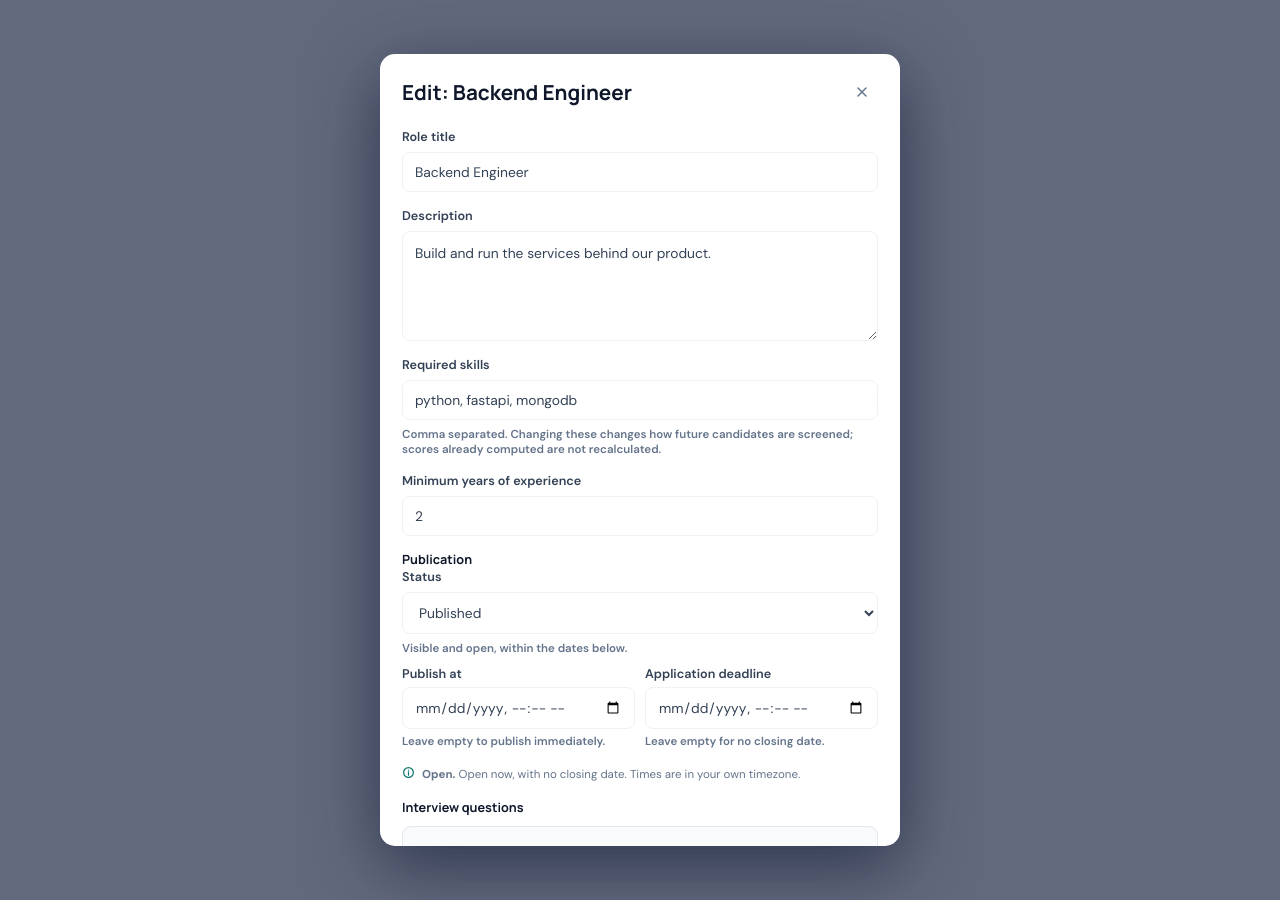
Test: editing a role › refuses to save an impossible window
expect the field labelled "Role title" is shown: met, box left=402, top=152, right=878, bottom=192
Type "2099-02-01T09:00" into the field labelled "Publish at Leave empty to publish immediately.". click: (518, 708)
box: left=402, top=687, right=635, bottom=729
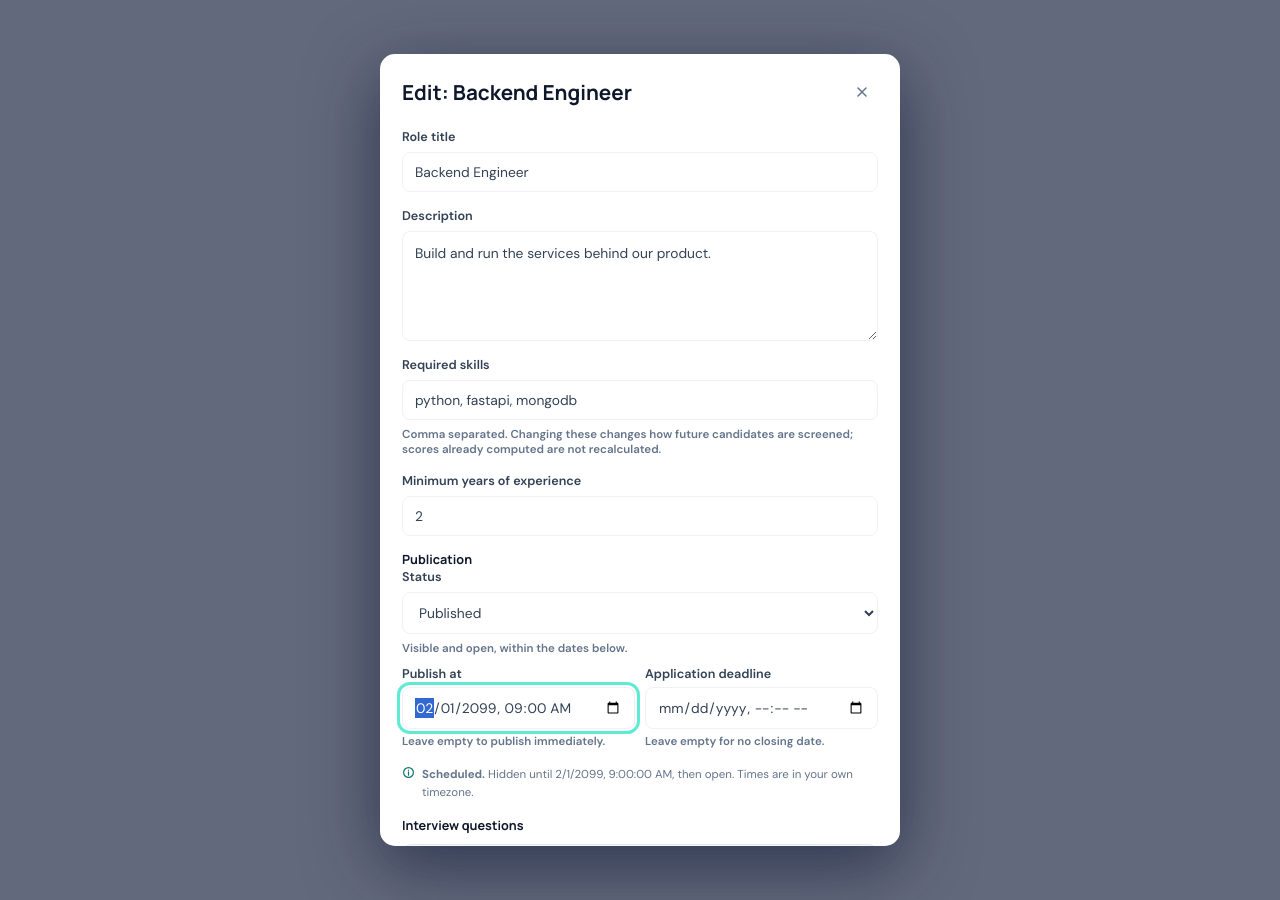
Type "2099-01-01T09:00" into the field labelled "Application deadline Leave empty for no closing date.". click: (762, 708)
box: left=645, top=687, right=878, bottom=729
(page scrolled)
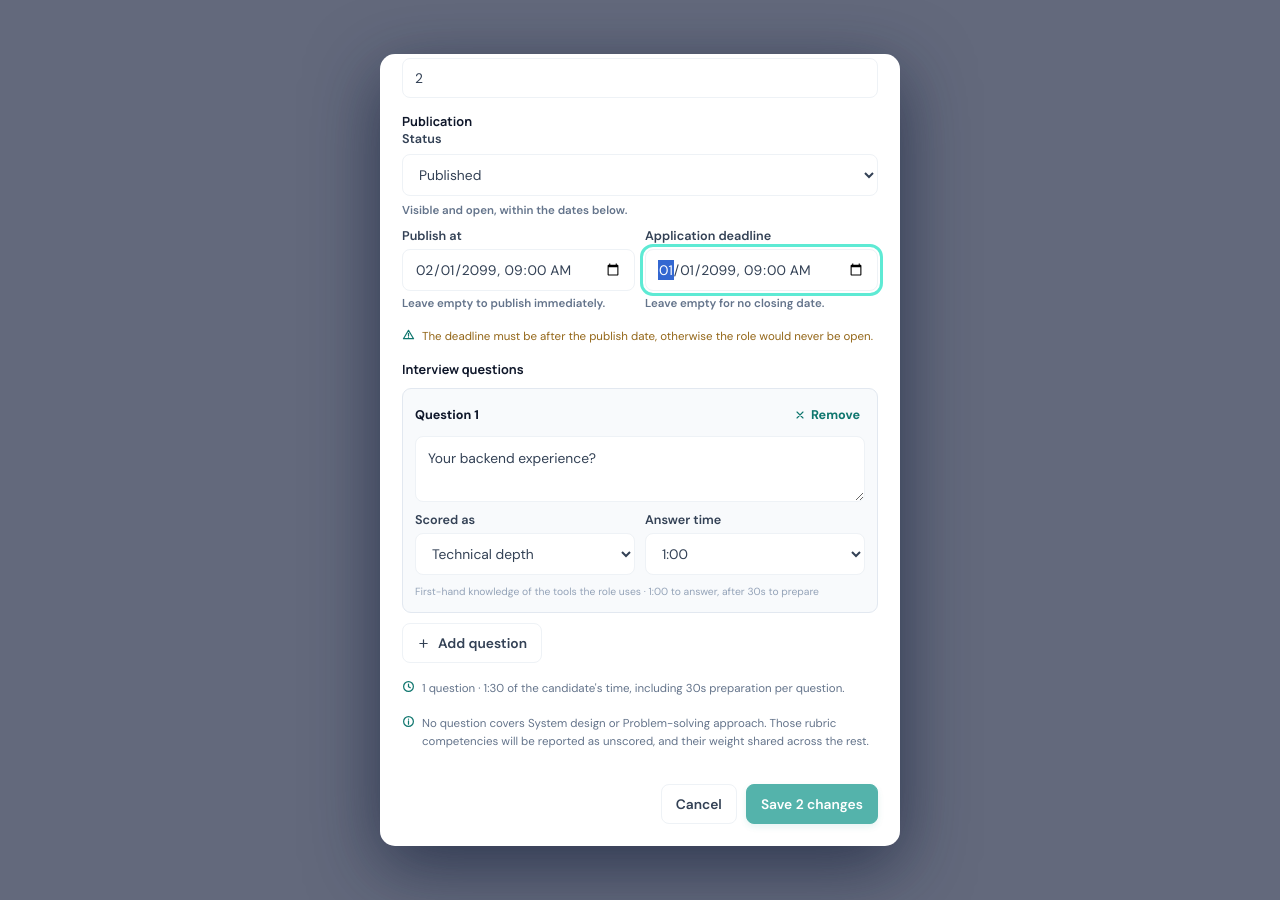
expect the message shows "after the publish date": met, box left=422, top=329, right=873, bottom=344
expect the button "Save 2 changes" is disabled: met, box left=746, top=784, right=878, bottom=824
